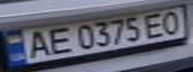0: (75, 21, 96, 51)
3: (93, 19, 112, 47)
5: (124, 12, 148, 43)
7: (109, 16, 130, 45)
A: (21, 27, 54, 60)
E: (42, 24, 75, 56), (139, 10, 169, 38)
O: (157, 8, 187, 35)
